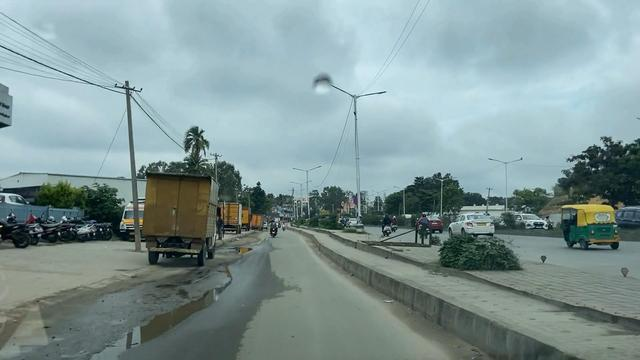HMV: (142, 173, 214, 261)
RoadDamages: (73, 329, 173, 358), (139, 272, 224, 306)
